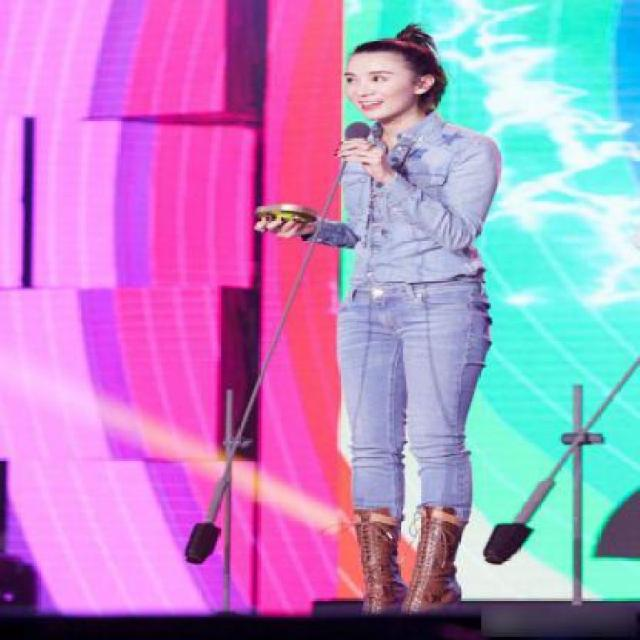Person: (274, 39, 552, 636)
